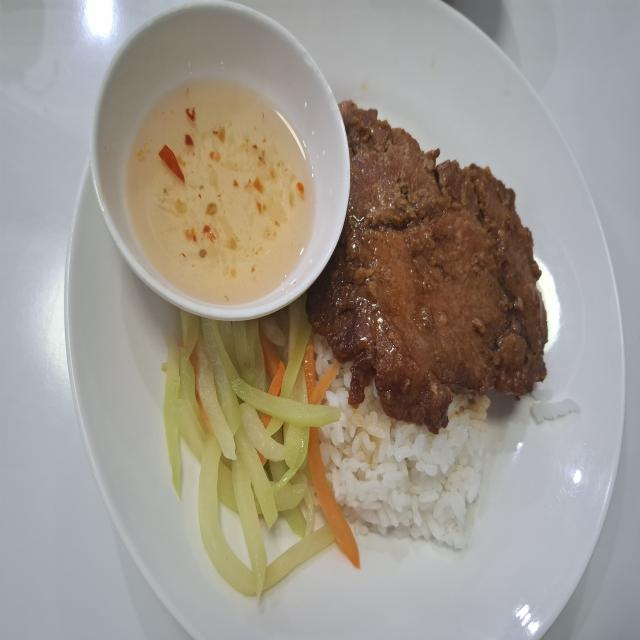com: (320, 366, 489, 549)
nuoc mam: (127, 84, 314, 305)
rau: (163, 295, 359, 598)
suon mieng: (307, 101, 548, 432)
